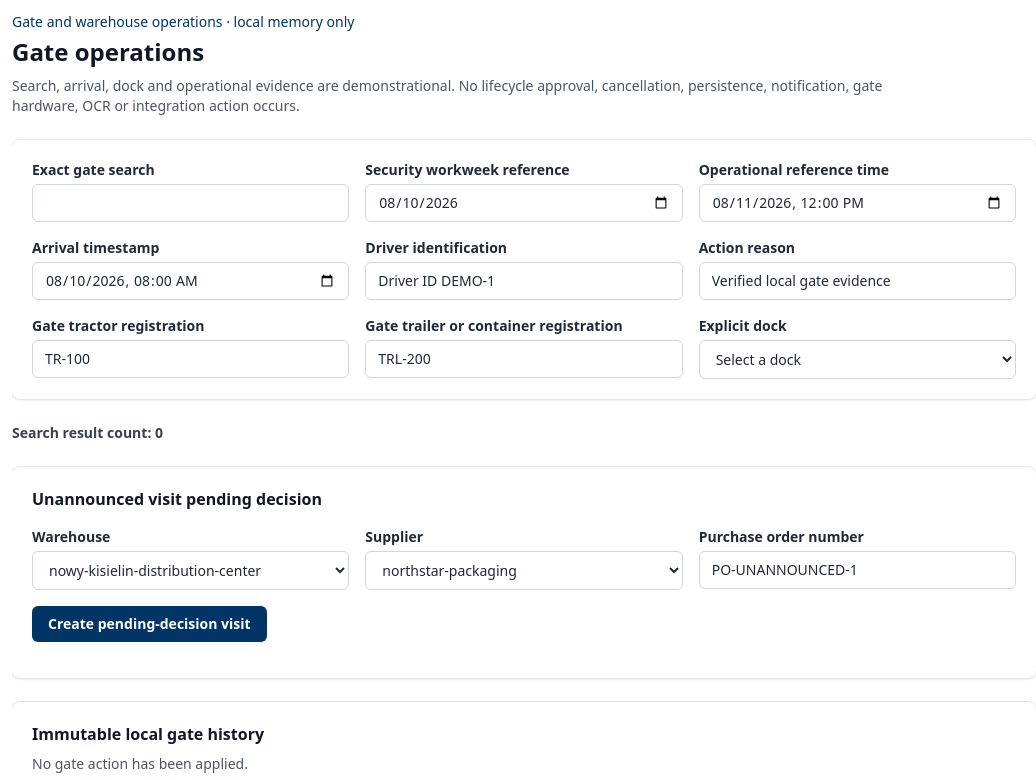
Test: GateOpsPage › creates an unannounced PENDING_DECISION record without slot, dock, capacity or lifecycle
Click the button "Create pending-decision visit": (149, 624) [32,606,267,642]
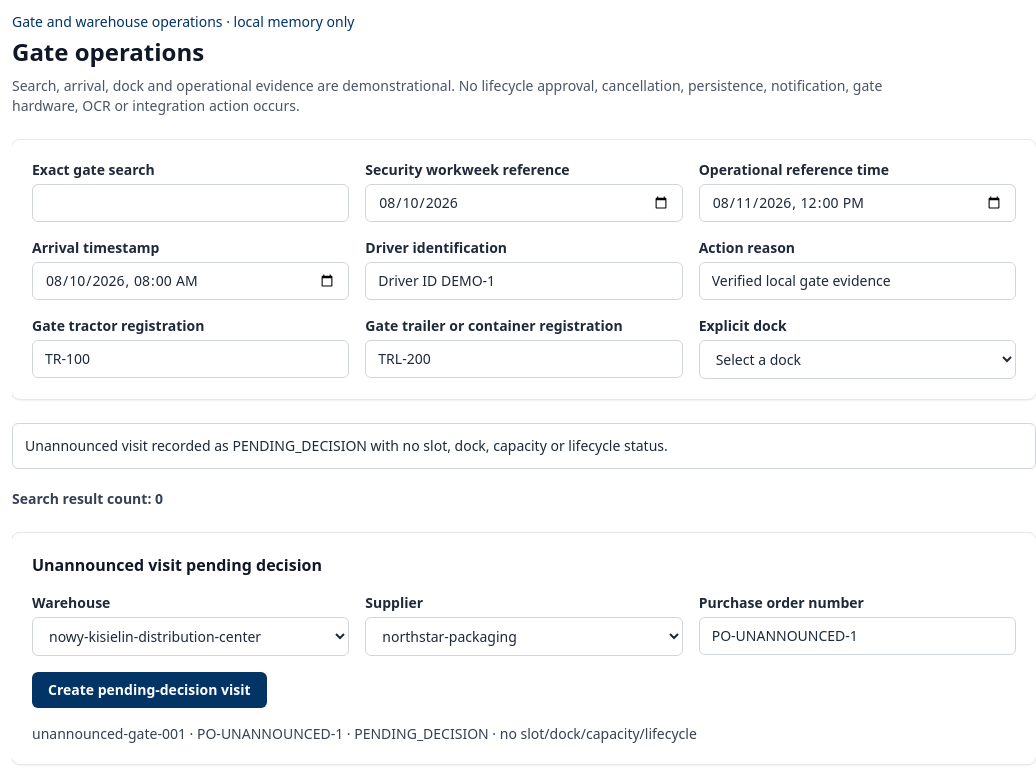
Expected: the list item "PO-UNANNOUNCED-1 · PENDING_DECISION · no slot/dock/capacity/lifecycle" is shown, [32,724,697,743]
Expected: the message shows "no slot, dock, capacity or lifecycle status", [25,436,668,455]
